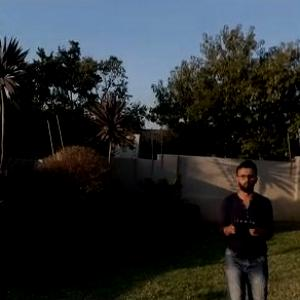follow: (219, 155, 275, 299)
